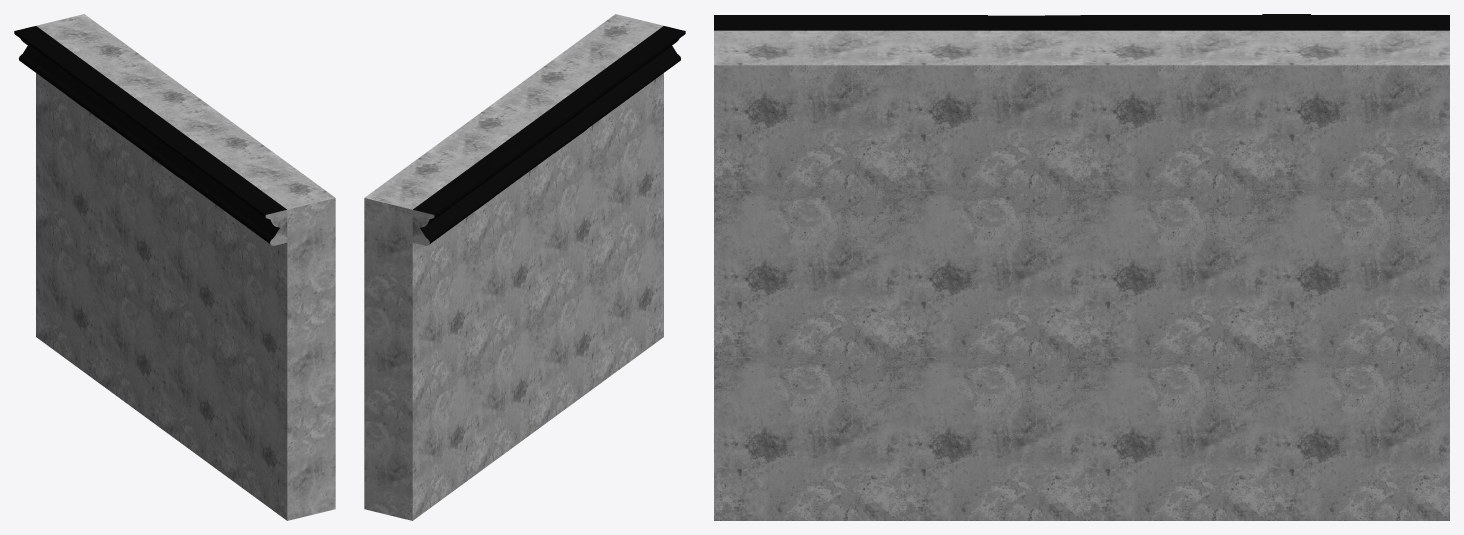
The model's file is SM_TowerWall_01a.fbx.
The picture shows the model from 3 angles, left to right: view 1: azimuth 30°, elevation 25°; view 2: azimuth 150°, elevation 25°; view 3: azimuth 270°, elevation 25°; orthographic projection. The views are drawn at different scales.
Parts seen in each view (by area): view 1: SM_TowerWall_01a_LOD0; view 2: SM_TowerWall_01a_LOD0; view 3: SM_TowerWall_01a_LOD0.
Part boxes in pixels (<box>): SM_TowerWall_01a_LOD0: <box>14,14,335,520</box>; SM_TowerWall_01a_LOD0: <box>364,14,685,520</box>; SM_TowerWall_01a_LOD0: <box>714,14,1449,520</box>.
Bounding box in the file's own units: 293 × 1800 × 1232.
